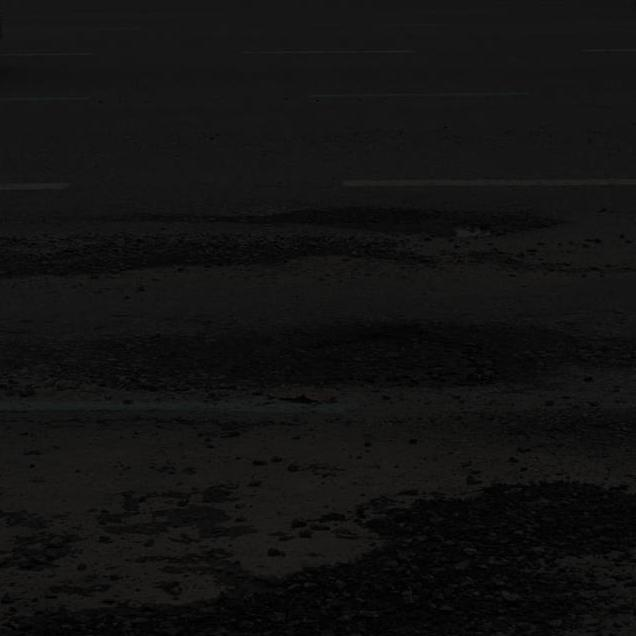pothole: (68, 292, 568, 415)
